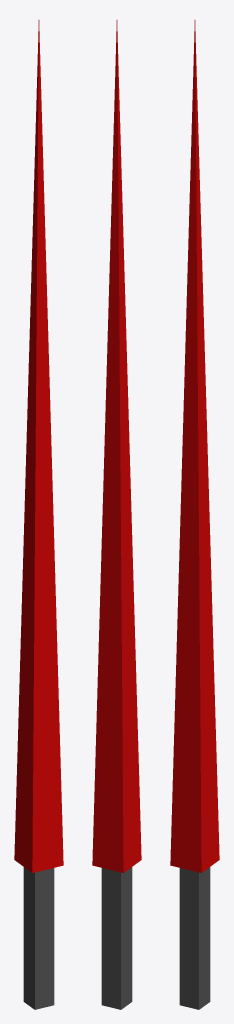
File: sword.fbx
3 views of the same model, side by side, from view 1: azimuth 30°, elevation 25°; view 2: azimuth 150°, elevation 25°; view 3: azimuth 330°, elevation 25° (orthographic).
Parts seen in each view (by area): view 1: pCube13, pCube12; view 2: pCube13, pCube12; view 3: pCube13, pCube12.
Boxes of the visible parts, <box> form: pCube13: <box>14,20,63,872</box>; pCube12: <box>23,867,54,1009</box>; pCube13: <box>92,20,141,872</box>; pCube12: <box>101,867,132,1009</box>; pCube13: <box>170,20,219,872</box>; pCube12: <box>179,867,210,1009</box>.
Size of the model in its own units: 7.11 by 215 by 7.11.
